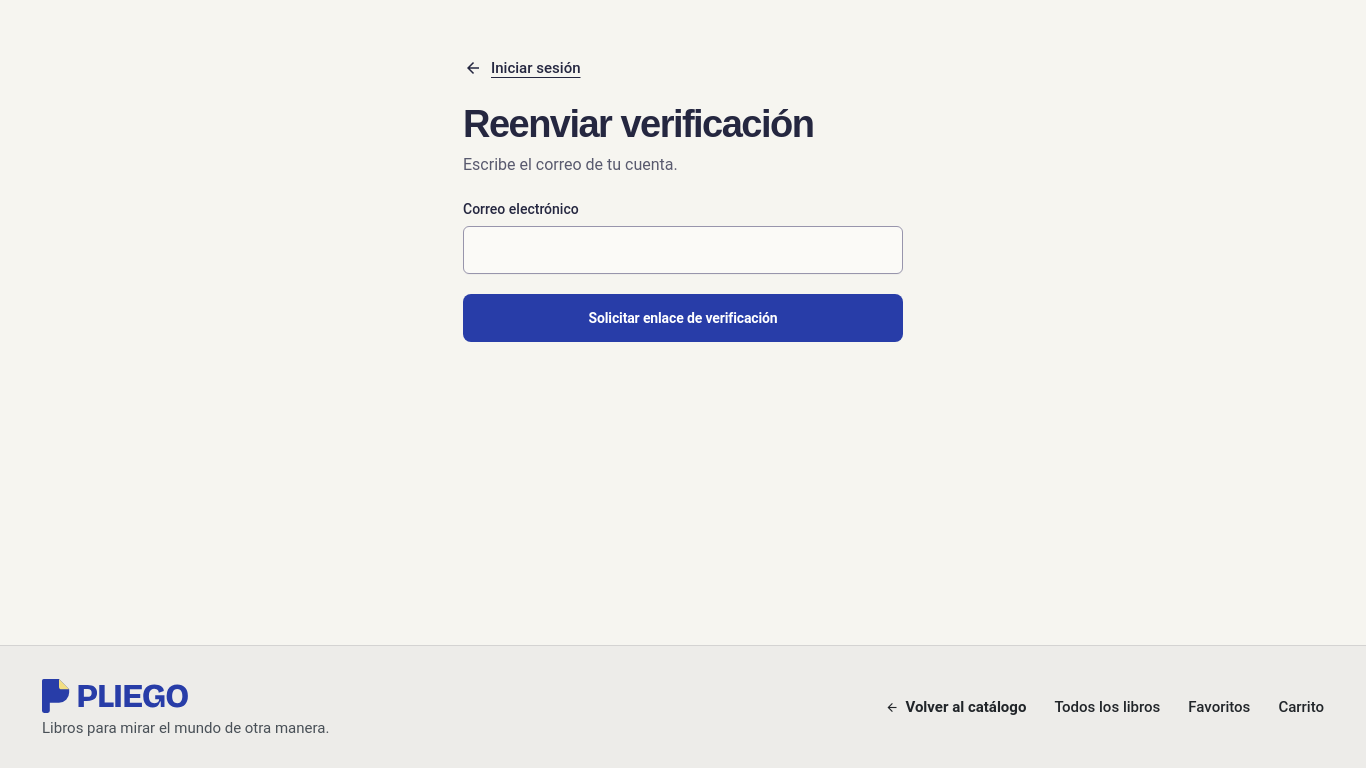
it: customer email actions › carries the validated origin into a resend request while keeping neutral feedback
The image size is (1366, 768).
Type "ana@example.com" into the field labelled "Correo electrónico" at (683,250), box [463,226,903,274]
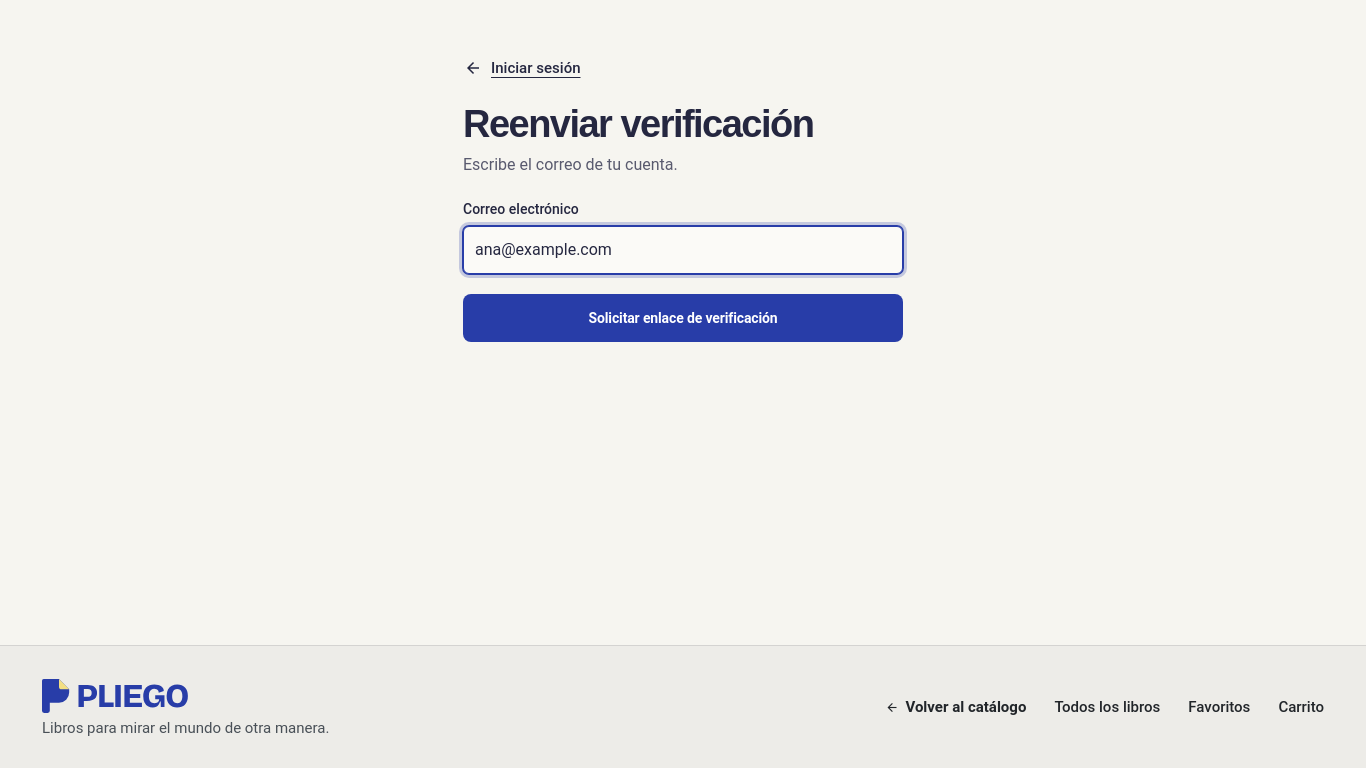
Click the button "Solicitar enlace de verificación" at (683,318), box [463,294,903,342]
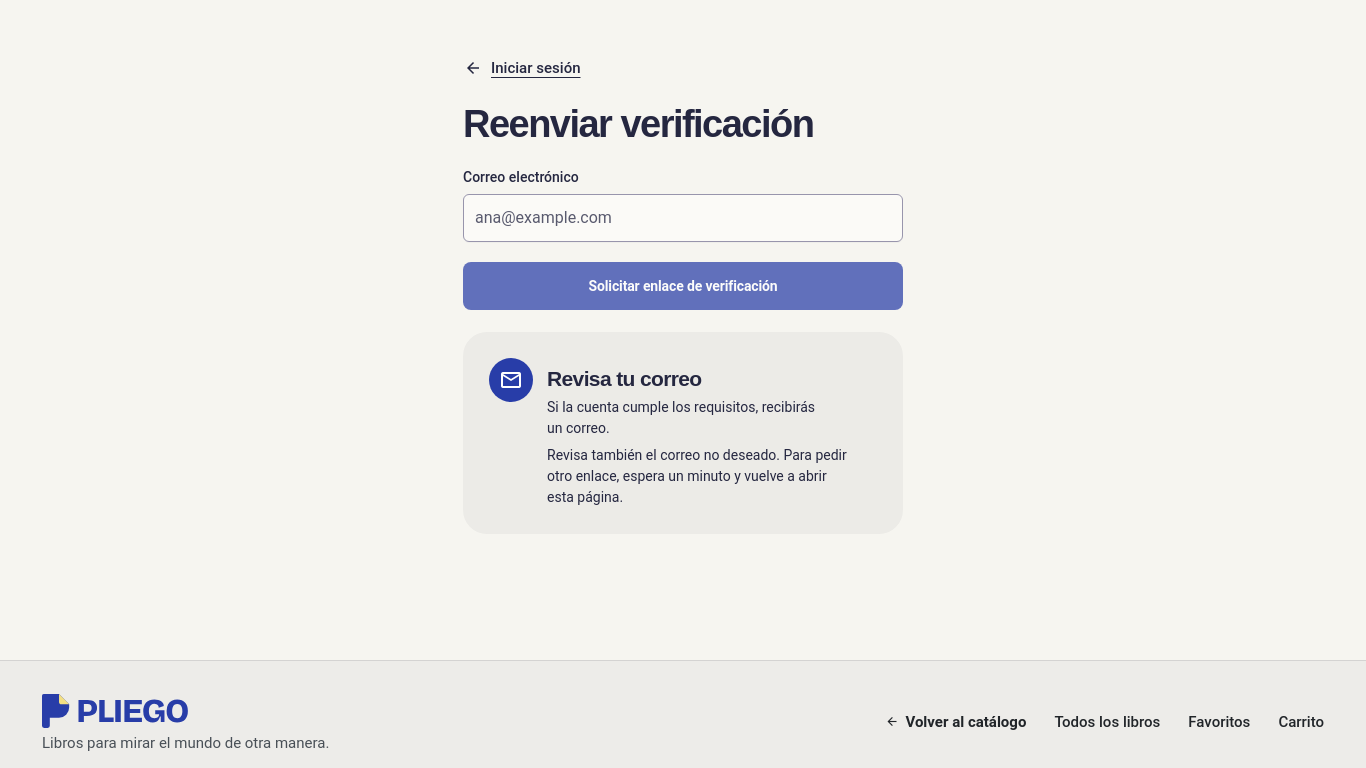
Check: the message shows "Si la cuenta cumple", box [547,399,815,436]
